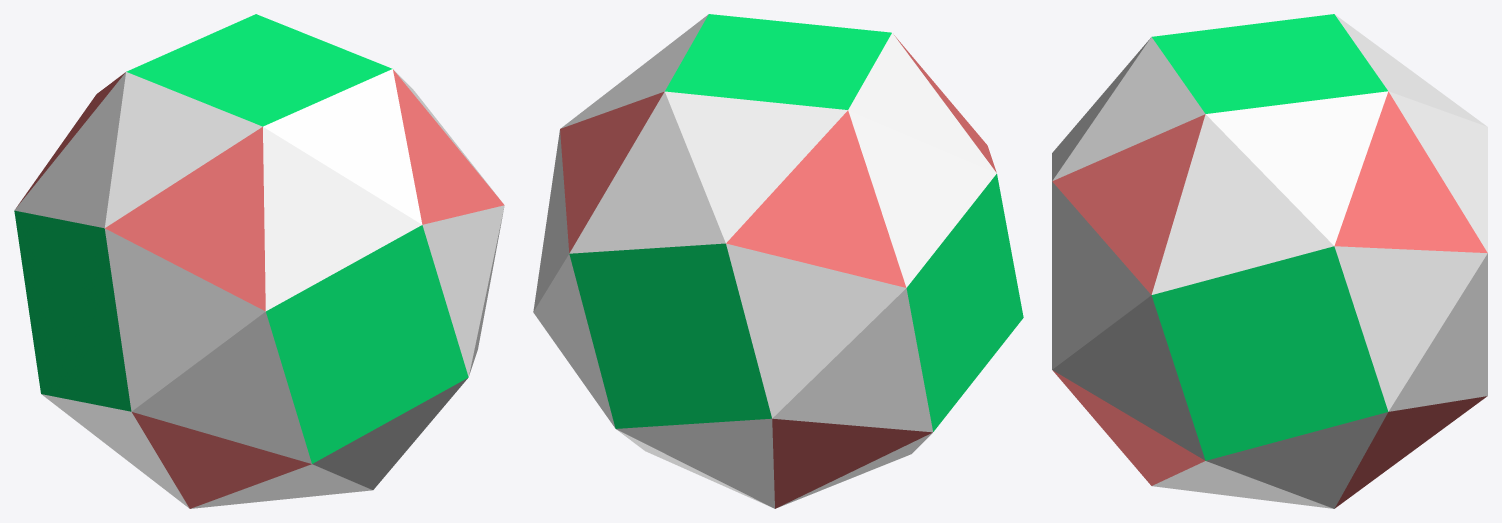
3 views of the same model, side by side, from view 1: azimuth 30°, elevation 25°; view 2: azimuth 150°, elevation 25°; view 3: azimuth 270°, elevation 25° (orthographic).
Parts seen in each view (by area): view 1: shape15-material, shape17-material, shape23-material, shape21-material, shape29-material, shape37-material, shape22-material, shape25-material, shape5-material, shape6-material, shape11-material, shape12-material (+5 smaller); view 2: shape36-material, shape17-material, shape23-material, shape14-material, shape4-material, shape8-material, shape34-material, shape3-material, shape6-material, shape35-material, shape25-material, shape30-material (+7 smaller); view 3: shape31-material, shape23-material, shape0-material, shape19-material, shape1-material, shape7-material, shape26-material, shape33-material, shape12-material, shape5-material, shape32-material, shape28-material (+6 smaller).
Part boxes in pixels (<box>): shape15-material: <box>266,225,468,463</box>; shape17-material: <box>14,210,131,411</box>; shape23-material: <box>126,14,392,126</box>; shape21-material: <box>105,127,265,311</box>; shape29-material: <box>263,127,421,311</box>; shape37-material: <box>104,228,265,411</box>; shape22-material: <box>132,311,311,463</box>; shape25-material: <box>105,72,262,227</box>; shape5-material: <box>263,69,422,224</box>; shape6-material: <box>14,72,125,228</box>; shape11-material: <box>132,412,311,508</box>; shape12-material: <box>422,205,504,376</box>; shape36-material: <box>569,243,771,428</box>; shape17-material: <box>906,174,1023,431</box>; shape23-material: <box>665,14,891,109</box>; shape14-material: <box>726,243,905,418</box>; shape4-material: <box>726,110,906,287</box>; shape8-material: <box>665,91,847,242</box>; shape34-material: <box>569,92,725,253</box>; shape3-material: <box>772,288,932,432</box>; shape6-material: <box>848,110,996,287</box>; shape35-material: <box>772,418,932,508</box>; shape25-material: <box>848,33,996,172</box>; shape30-material: <box>616,418,774,508</box>; shape31-material: <box>1151,246,1388,460</box>; shape23-material: <box>1152,14,1387,113</box>; shape0-material: <box>1151,114,1333,294</box>; shape19-material: <box>1206,91,1388,245</box>; shape1-material: <box>1334,246,1487,411</box>; shape7-material: <box>1334,91,1487,253</box>; shape26-material: <box>1052,114,1205,294</box>; shape33-material: <box>1052,295,1205,460</box>; shape12-material: <box>1052,181,1151,369</box>; shape5-material: <box>1052,37,1205,180</box>; shape32-material: <box>1206,412,1387,508</box>; shape28-material: <box>1388,253,1487,411</box>.
Bounding box in the file's own units: 42.1 × 42.1 × 42.1.
